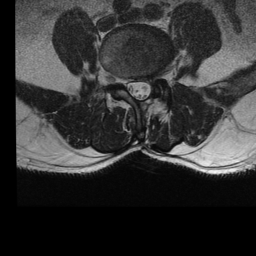CCS_normal: (134, 69, 143, 104)
LFS_stenosis: (151, 63, 159, 87)
LLS_normal: (143, 68, 151, 103)
RFS_stenosis: (117, 66, 126, 92)
RLS_normal: (126, 69, 134, 100)
